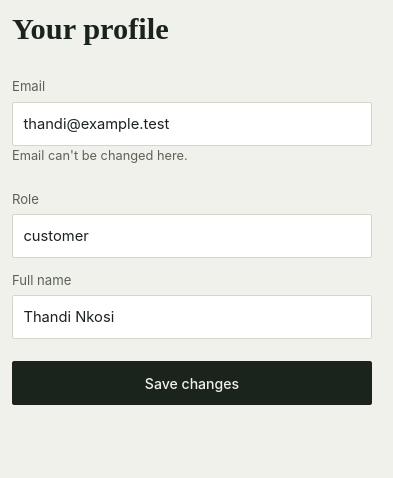
Test case: ProfilePage saving › does not announce success when the save failed
Replace the text in the field labelled "Full name" with "Thandi M Nkosi" at (192, 317), box [12,295,372,339]
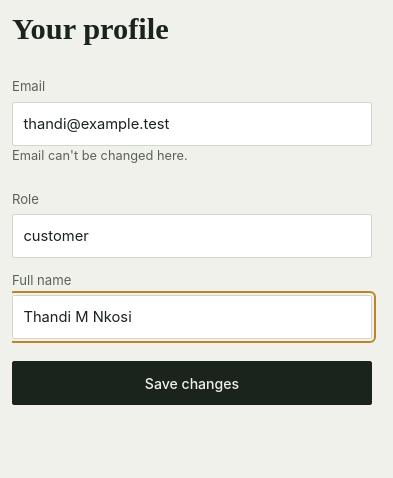
Click the button "Save changes".
click(192, 383)  # box [12,361,372,405]
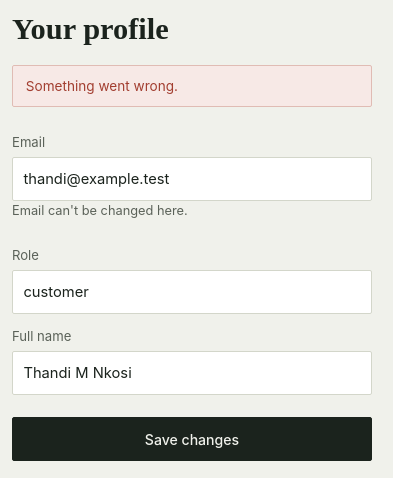
Result: the message "Something went wrong." is shown at [12,65,372,108]
